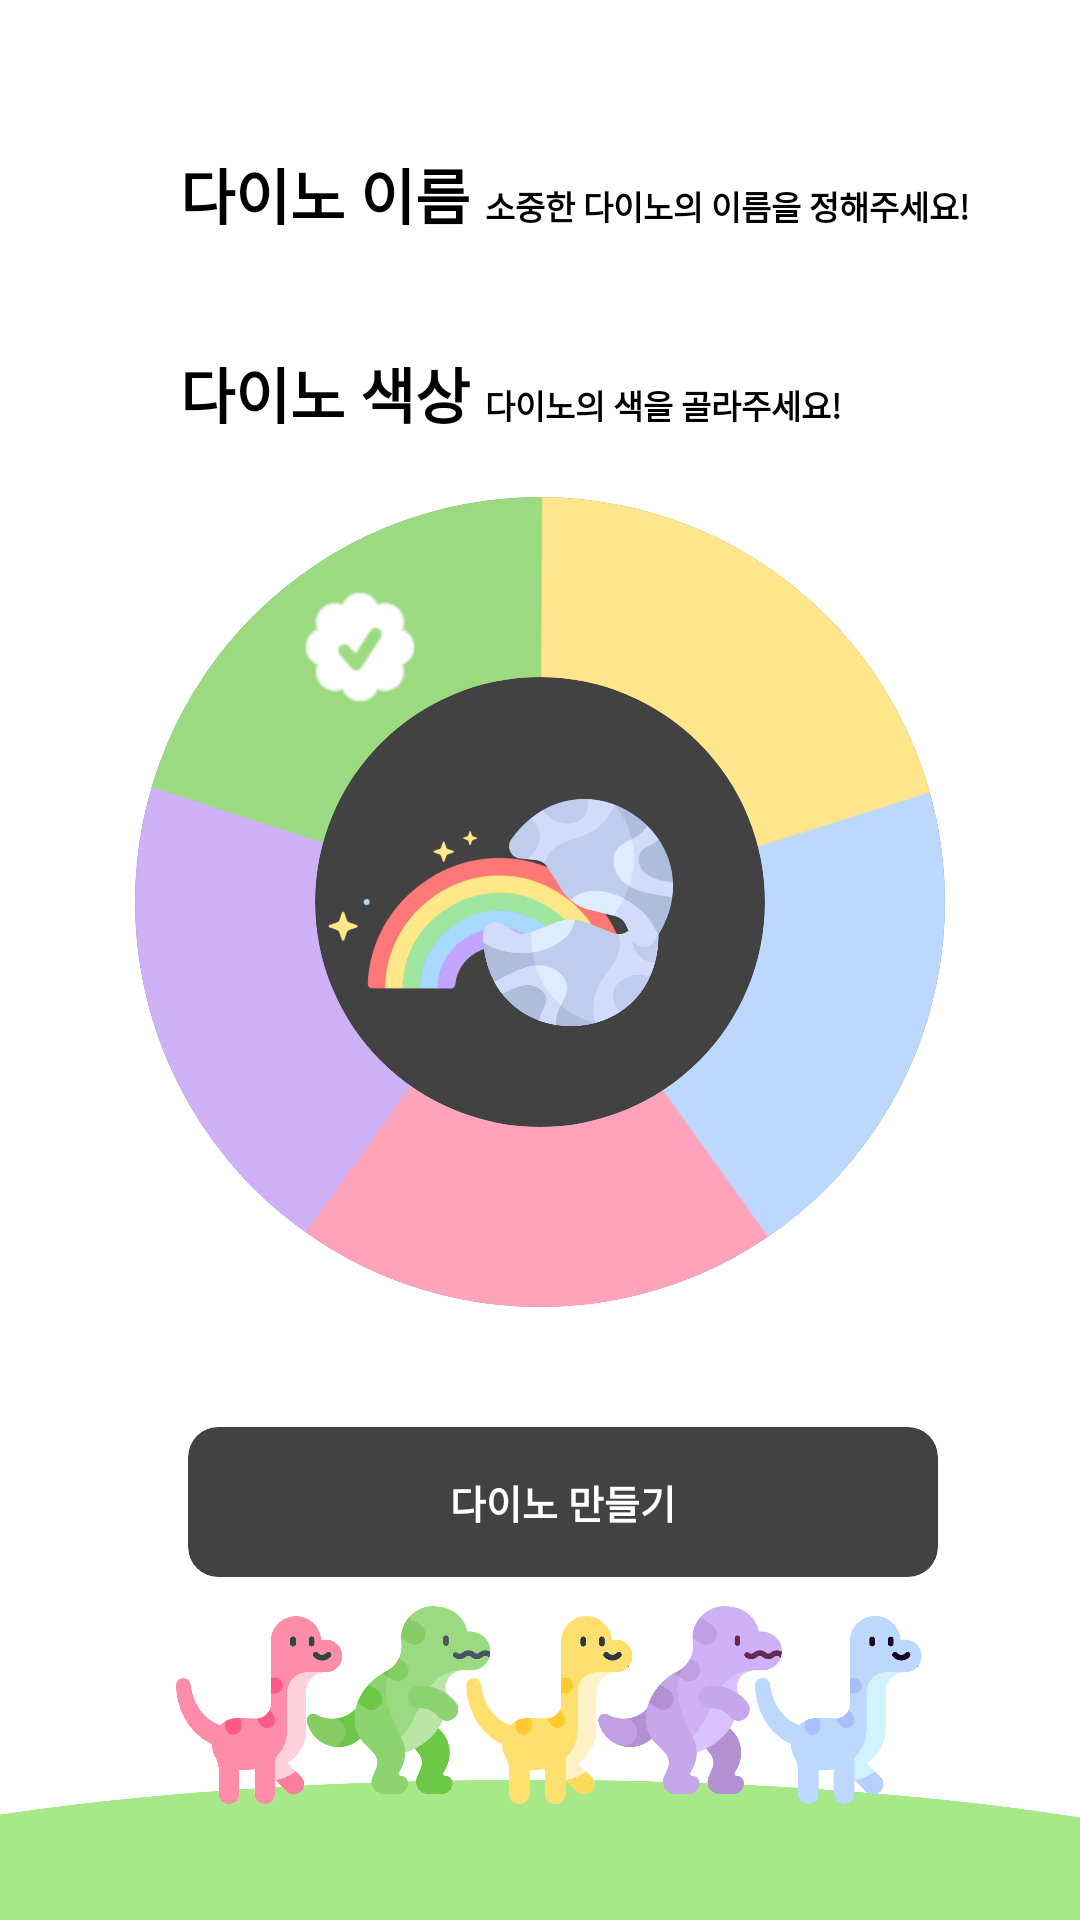

Icon click points for this 1080*1920 phone screenshot, format (x,y):
check: (360,647)
